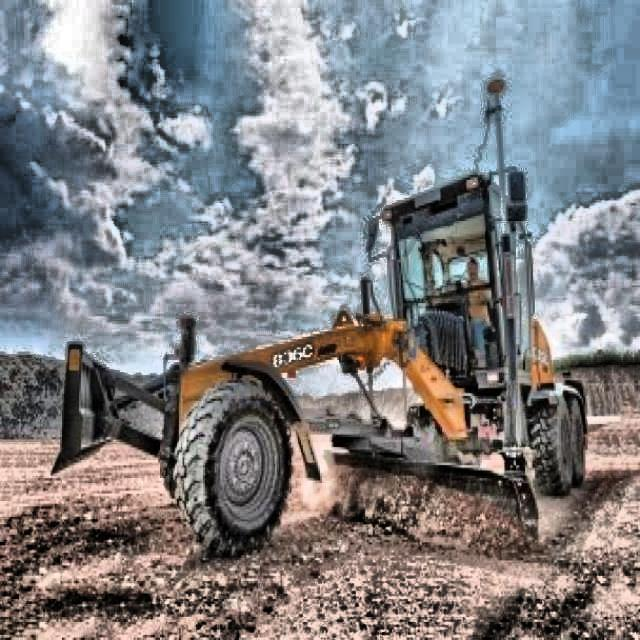bull_dozer/loader/grader: (48, 76, 589, 560)
person: (462, 254, 492, 367)
